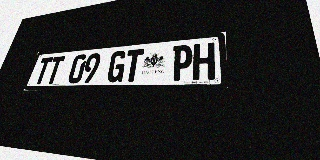0: (67, 54, 88, 83)
9: (80, 52, 102, 83)
G: (106, 50, 128, 82)
H: (192, 42, 215, 80)
P: (171, 44, 193, 81)
T: (122, 49, 144, 82), (44, 56, 65, 84), (33, 57, 53, 84)
